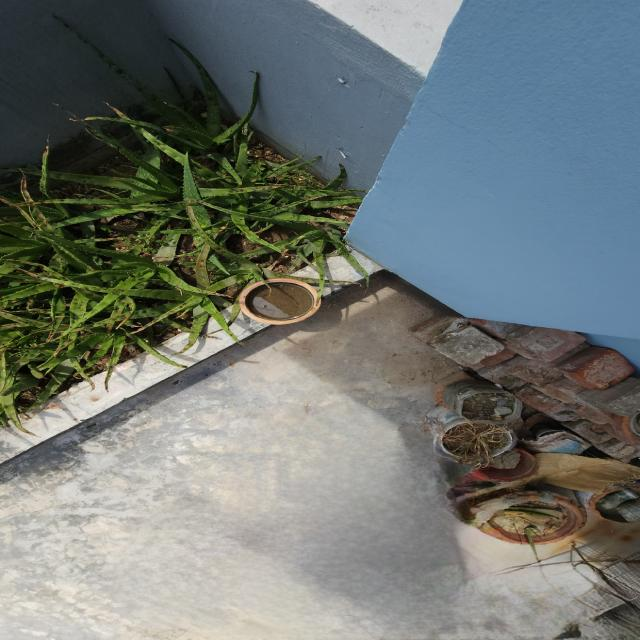Breeding Place: (0, 92, 388, 463), (408, 310, 640, 556), (216, 267, 340, 336)
